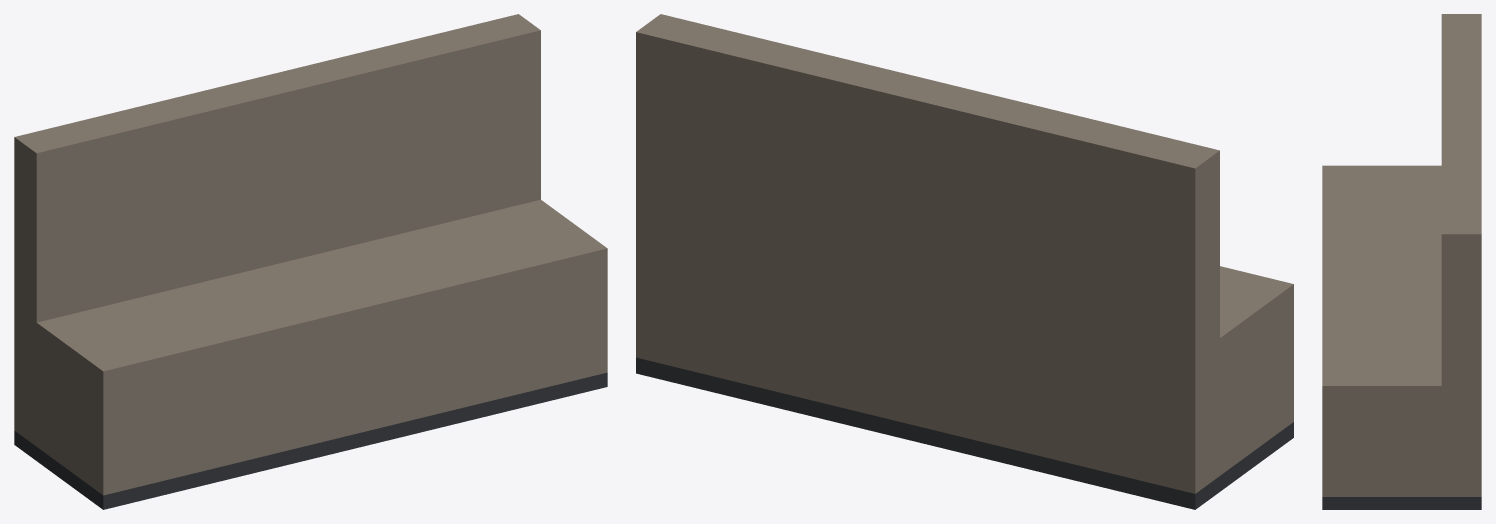
The model's file is banquette_straight_72.glb.
The picture shows the model from 3 angles, left to right: view 1: azimuth 30°, elevation 25°; view 2: azimuth 150°, elevation 25°; view 3: azimuth 270°, elevation 25°; orthographic projection. The views are drawn at different scales.
Size of the model in its own units: 1.83 by 1.07 by 0.5588.
